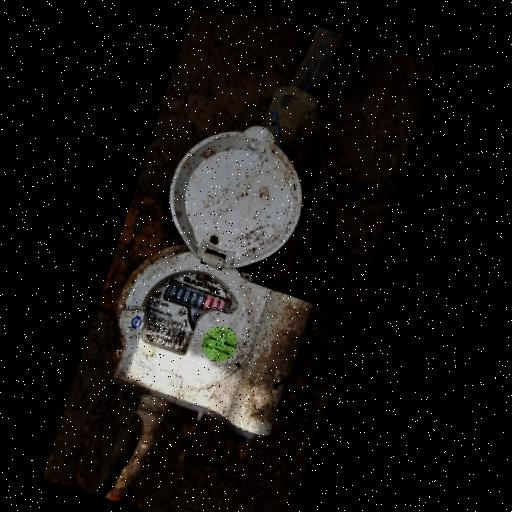0: (174, 285, 186, 302), (181, 288, 193, 305), (202, 295, 214, 312), (167, 284, 178, 299), (218, 301, 227, 311)
2: (188, 291, 200, 307)
3: (211, 299, 221, 311)
8: (195, 294, 206, 309)
border_water_meter_number: (162, 278, 233, 319)
